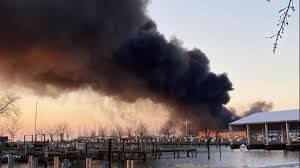smoke: (1, 1, 147, 91), (150, 38, 229, 131)
